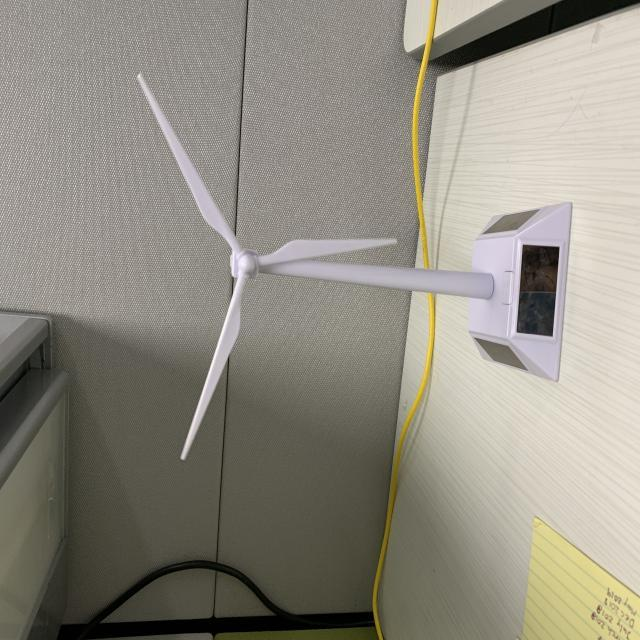solid-blade: (139, 74, 241, 253), (180, 276, 246, 460), (259, 240, 396, 266)
